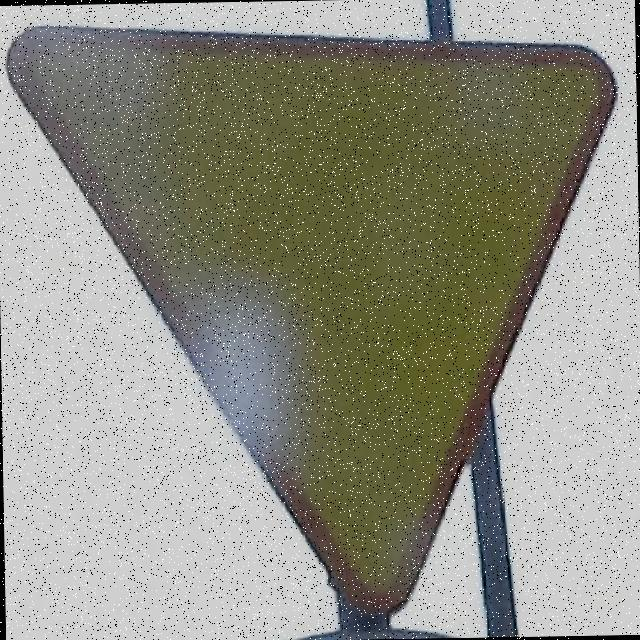Ustap pierwszenstwa: (5, 13, 624, 622)
